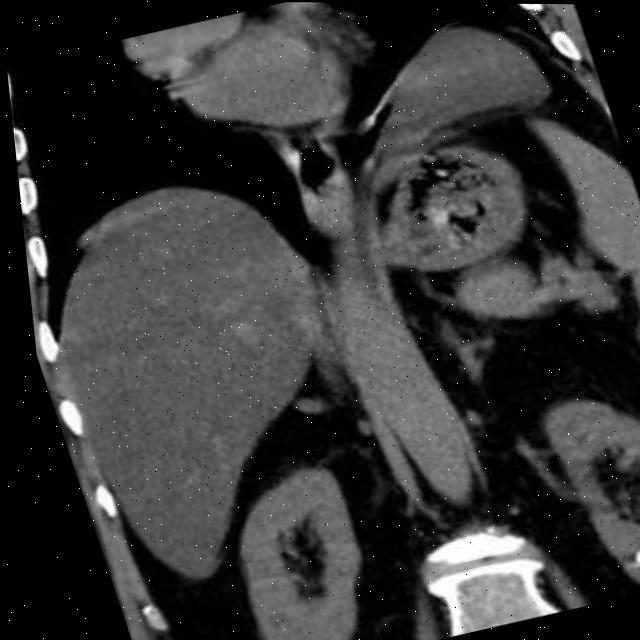Tas_Var: (619, 543, 640, 568)
